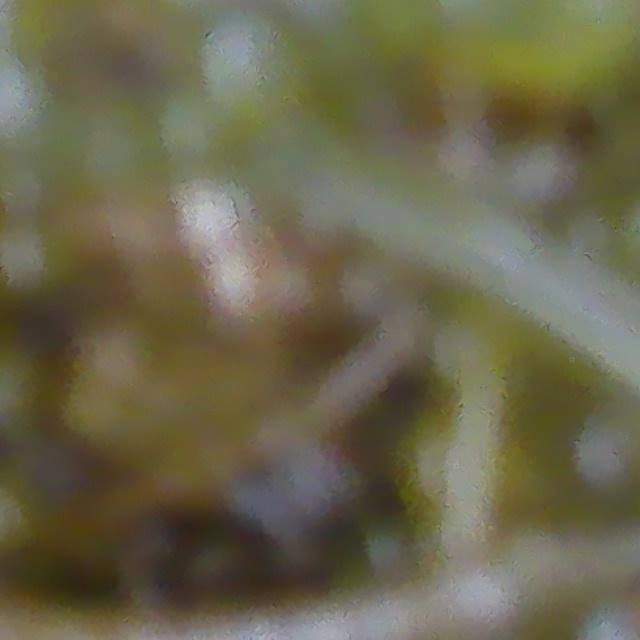SeaGrape: (196, 10, 282, 105), (0, 217, 78, 306), (154, 89, 224, 165), (0, 55, 51, 144)
